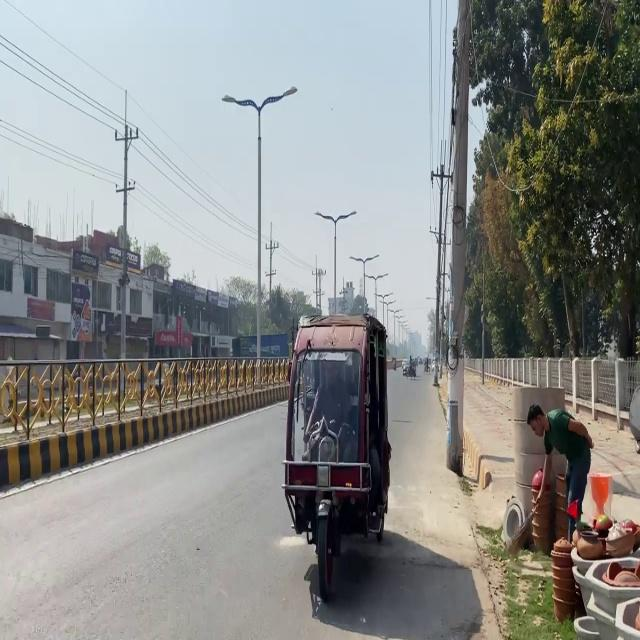Garbage-bin: (526, 403, 594, 542)
Pole: (0, 352, 220, 550)
Pothole: (454, 365, 639, 638)
Traffic-cone: (280, 312, 392, 601)
